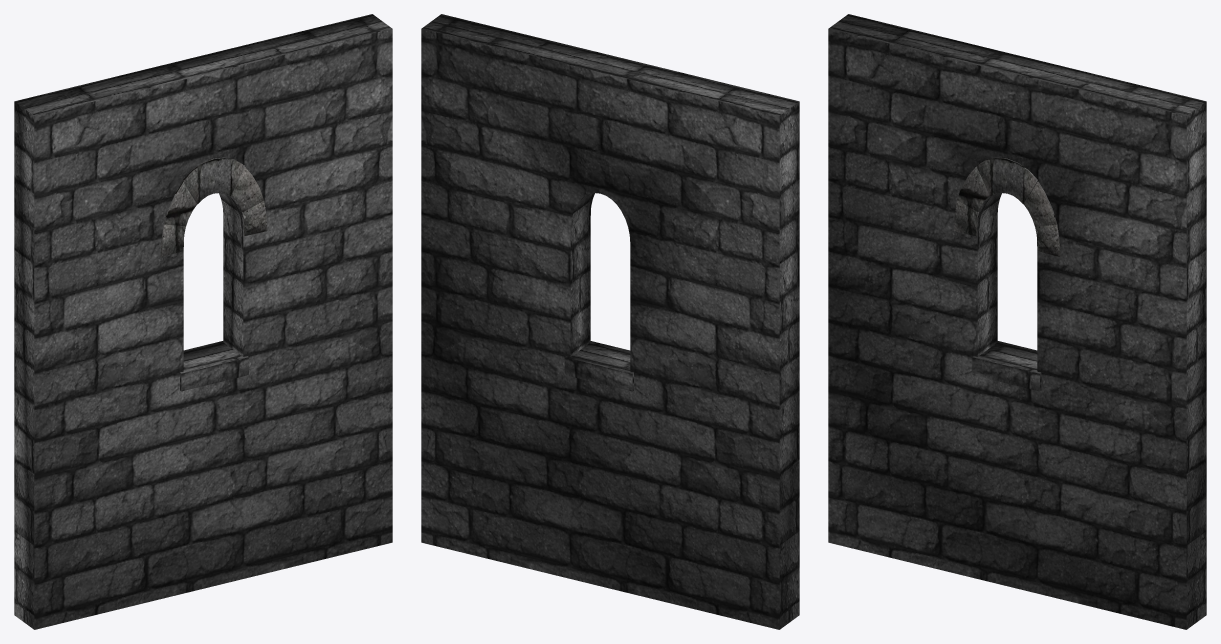
File: stone wall window2.glb
3 renders of one model, left to right at view 1: azimuth 30°, elevation 25°; view 2: azimuth 150°, elevation 25°; view 3: azimuth 330°, elevation 25°, orthographic.
Visible parts, largest first — view 1: Arch Window Wall; view 2: Arch Window Wall; view 3: Arch Window Wall.
Boxes of the visible parts, bbox=[...] form: Arch Window Wall: bbox=[14, 14, 392, 629]; Arch Window Wall: bbox=[421, 14, 799, 629]; Arch Window Wall: bbox=[828, 14, 1206, 629].
Size of the model in its own units: 2 by 2.74 by 0.225.
2 materials, 2 textured.
